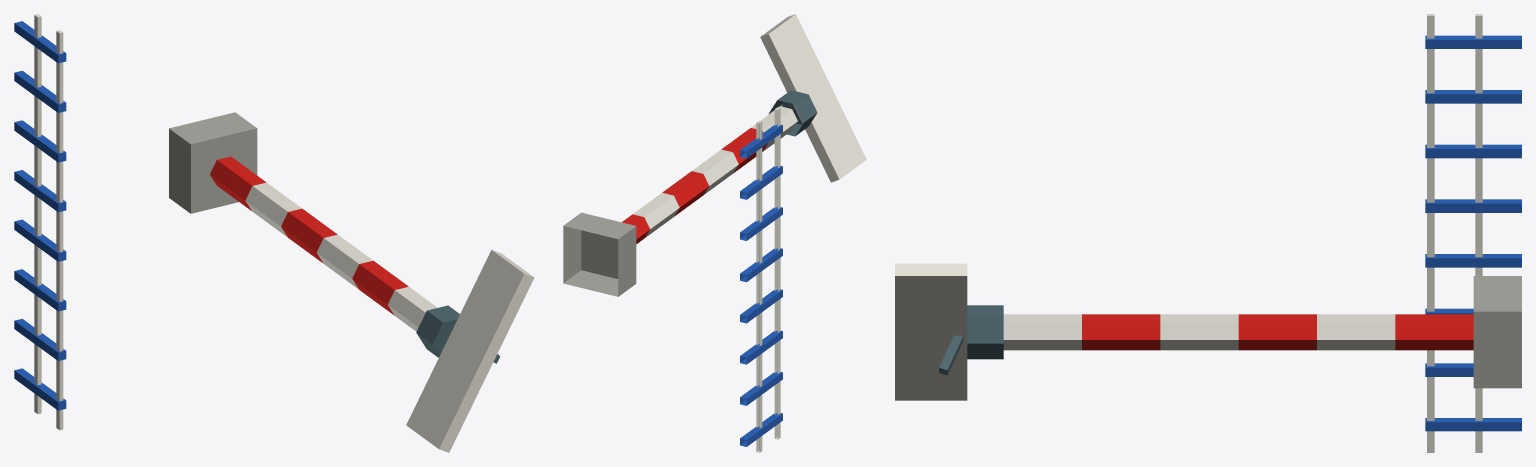
The model's file is frame_8.glb.
3 views of the same model, side by side, from view 1: azimuth 30°, elevation 25°; view 2: azimuth 150°, elevation 25°; view 3: azimuth 270°, elevation 25° (orthographic). The views are drawn at different scales.
Parts seen in each view (by area): view 1: t0_3_g52.008; view 2: t0_3_g52.008; view 3: t0_3_g52.008.
Part boxes in pixels (x1,y1,x2,y2): t0_3_g52.008: (14, 14, 534, 452); t0_3_g52.008: (563, 14, 866, 452); t0_3_g52.008: (895, 14, 1521, 452).
Bounding box in the file's own units: 9.94 × 16 × 20.8.
